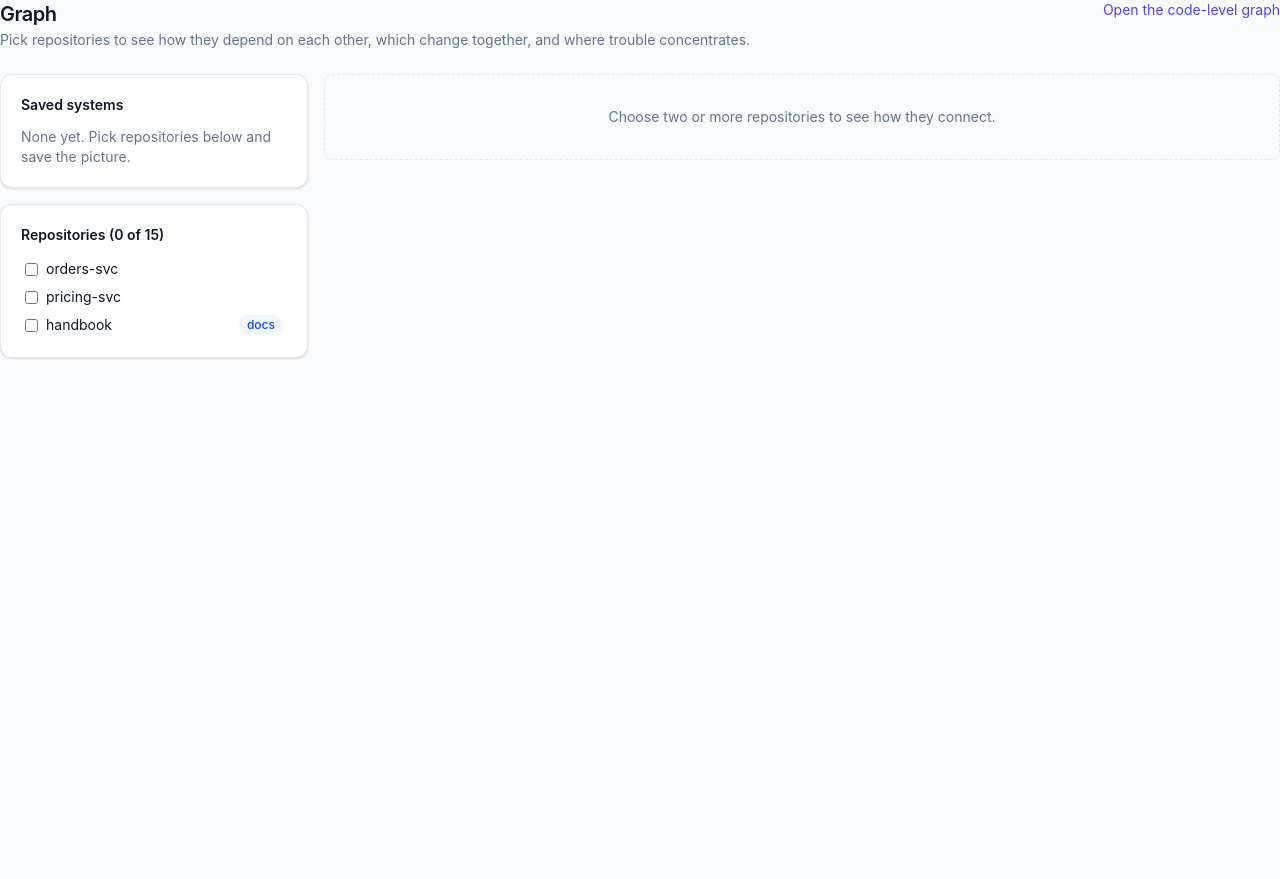
it: Graph: systems › explains an empty code graph instead of drawing nothing
Click the checkbox labelled "orders-svc".
click(32, 269)  # box [25, 262, 38, 276]
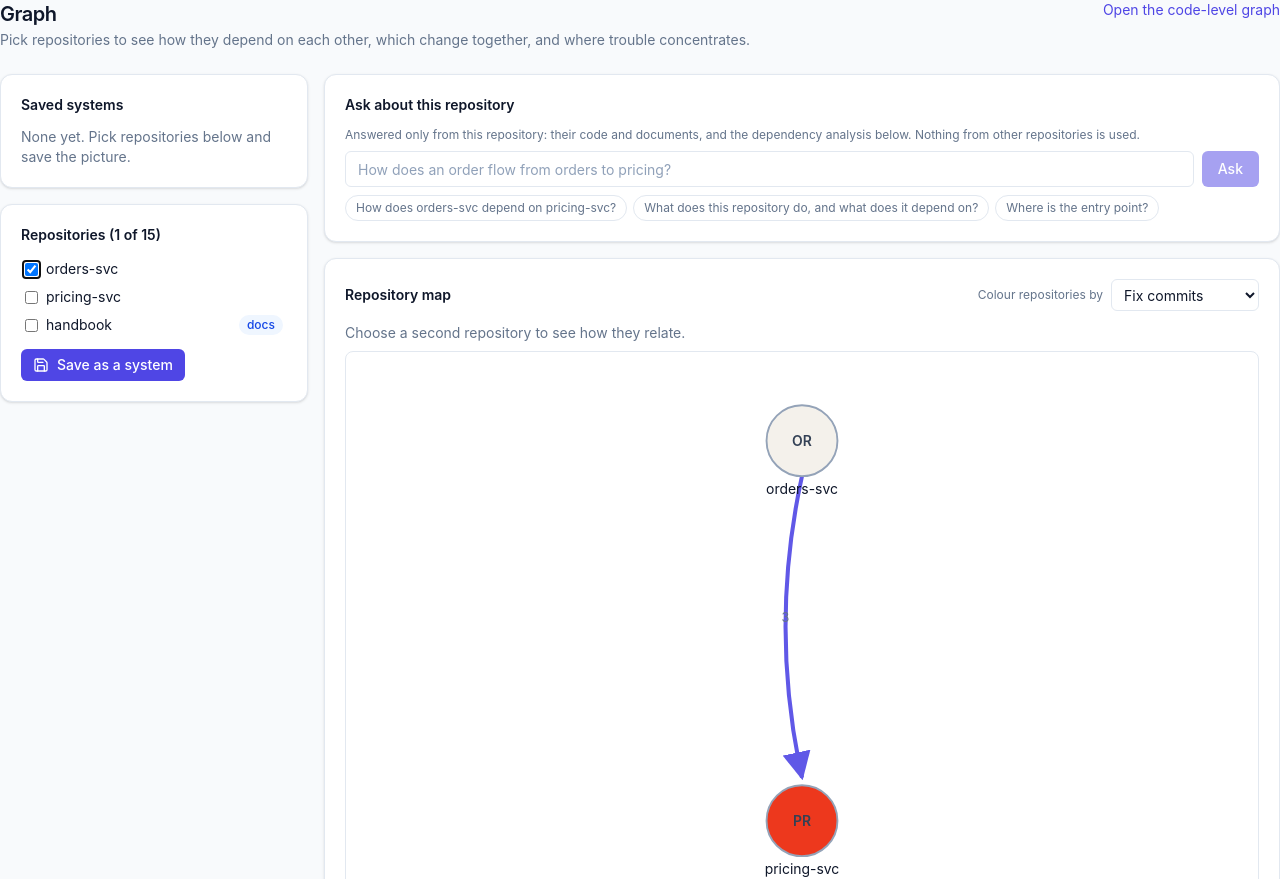
Click the checkbox labelled "pricing-svc".
click(32, 297)  # box [25, 290, 38, 304]
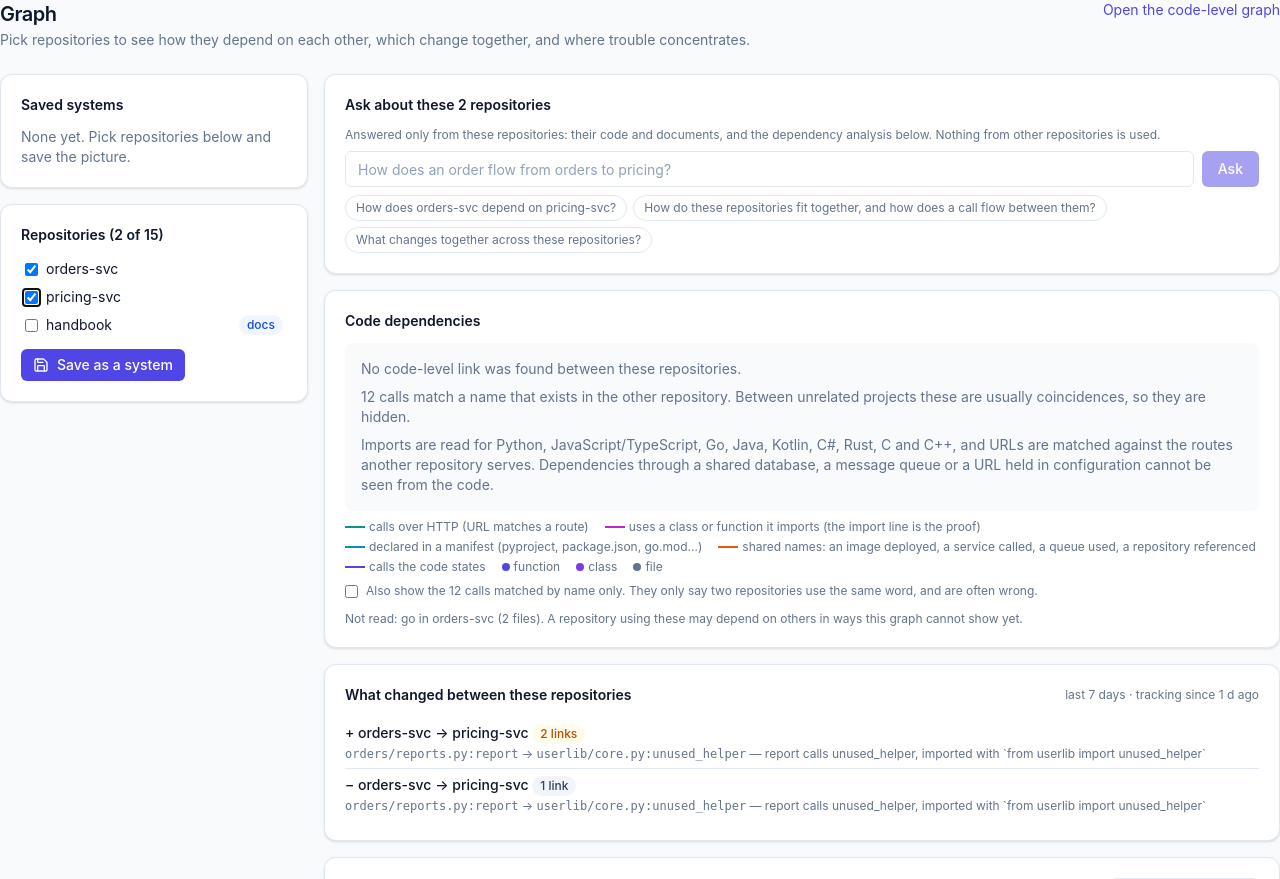
Check: the text "No code-level link was found between these repositories." is shown, box [361, 360, 741, 377]
Check: the element labelled "Code dependencies" shows "12 calls match a name that exists in the other repository", box [324, 290, 1279, 648]
Check: the element labelled "Code dependencies" shows "usually coincidences", box [361, 388, 1206, 425]
